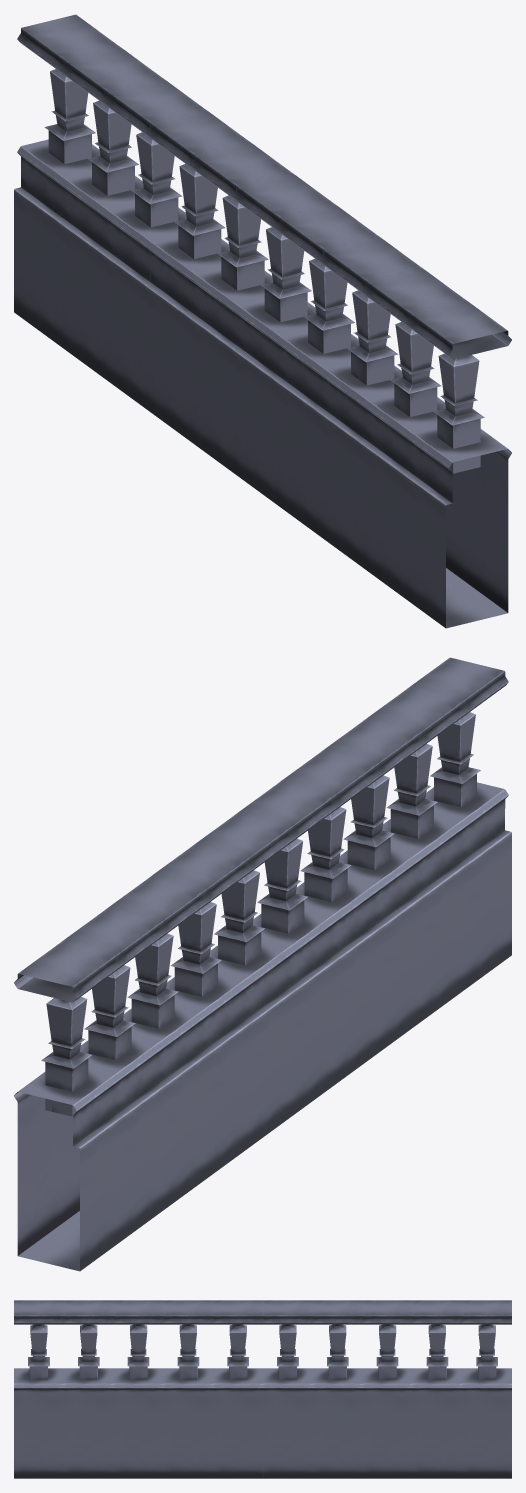
The model's file is Railing.fbx.
The picture shows the model from 3 angles, top to bottom: view 1: azimuth 30°, elevation 25°; view 2: azimuth 150°, elevation 25°; view 3: azimuth 270°, elevation 25°; orthographic projection. The views are drawn at different scales.
Visible parts, largest first — view 1: Stairs.012; view 2: Stairs.012; view 3: Stairs.012.
Boxes of the visible parts, left/top/right/bottom form: Stairs.012: left=14, top=14, right=511, bottom=628; Stairs.012: left=14, top=657, right=511, bottom=1271; Stairs.012: left=14, top=1300, right=511, bottom=1478.
Size of the model in its own units: 88.3 by 361 by 1000.
